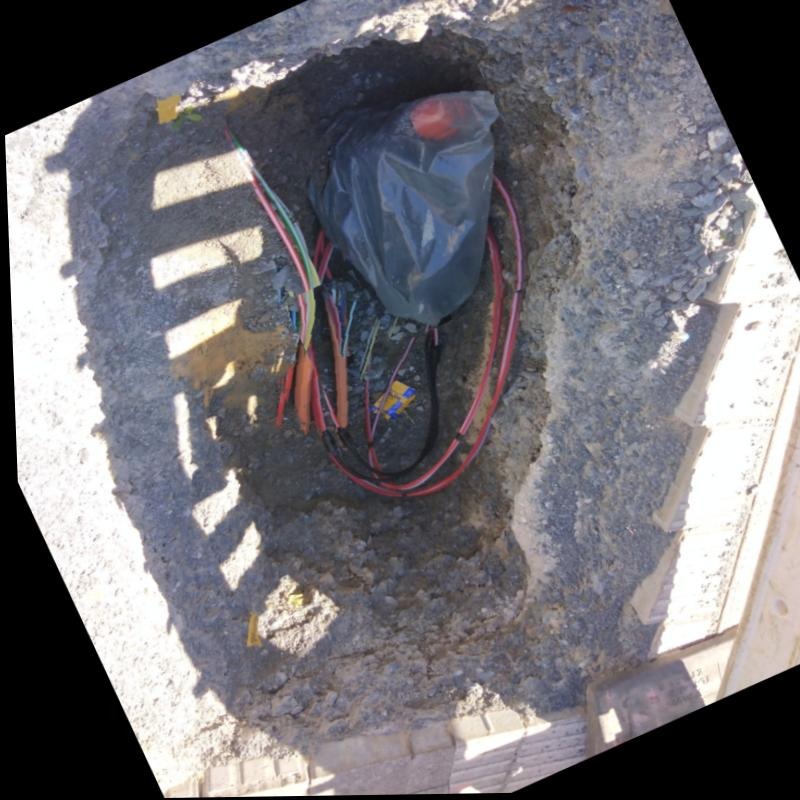Kugelmarker: (410, 100, 454, 136)
NT-Muffen: (315, 91, 498, 329)
Orang-Speednetrohrchen: (320, 278, 363, 428), (291, 304, 323, 436)
